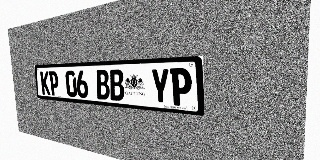0: (65, 70, 77, 97)
6: (75, 70, 89, 98)
B: (109, 69, 125, 101), (95, 70, 110, 100)
K: (40, 71, 50, 95)
P: (170, 68, 192, 107), (48, 71, 59, 96)
Y: (150, 68, 170, 105)
